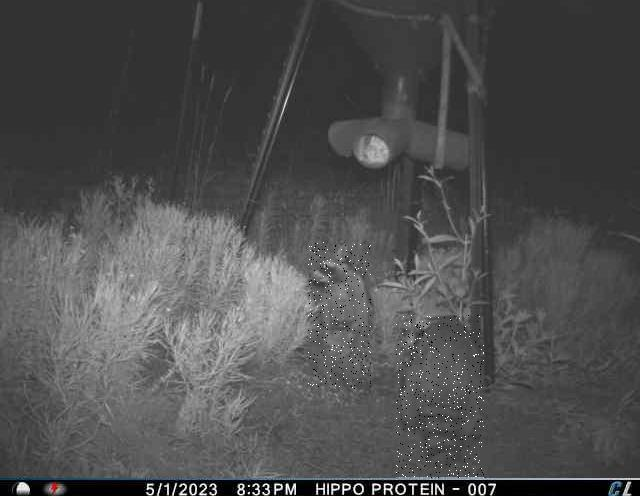Raccoon: (396, 316, 484, 479), (308, 242, 371, 389)
